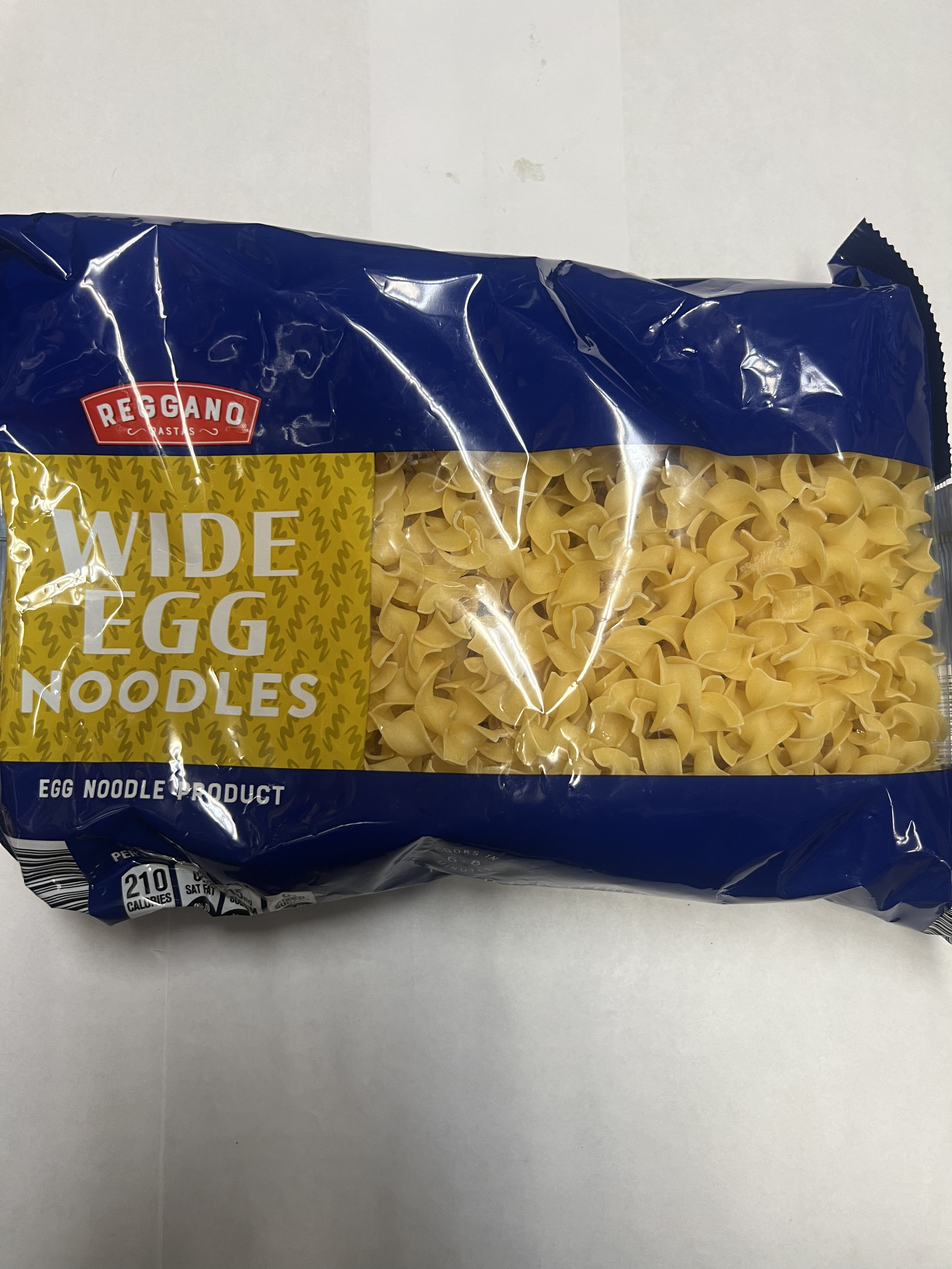packaged: (0, 204, 952, 949)
